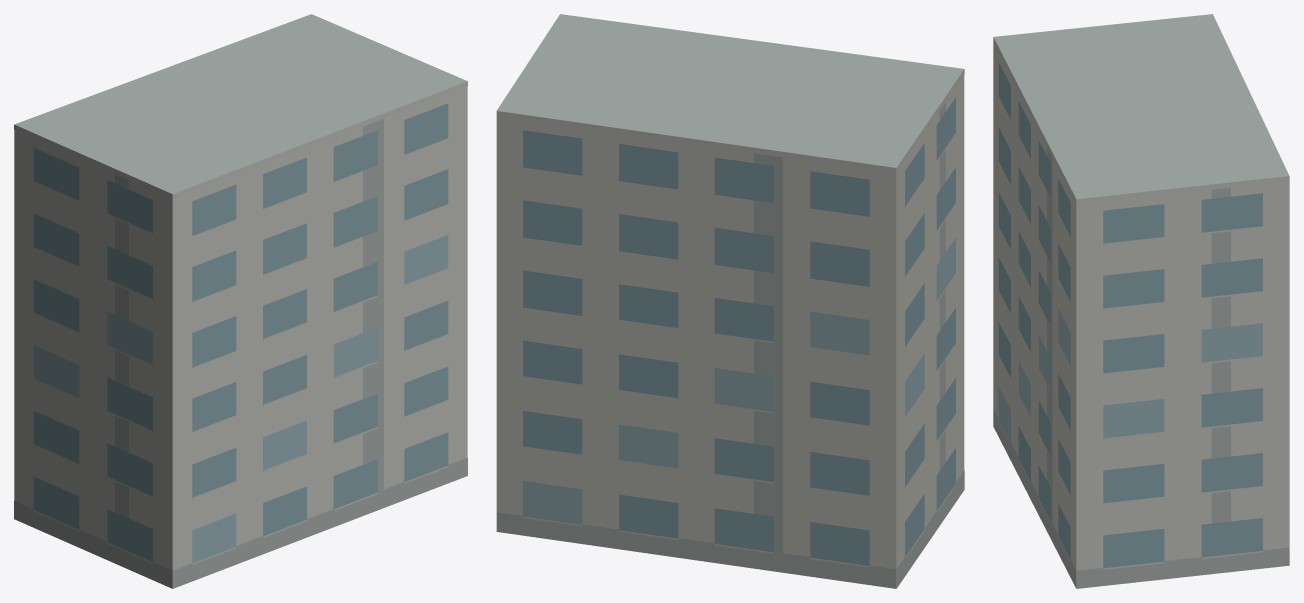
The model's file is survey-upis-32830711.glb.
3 renders of one model, left to right at view 1: azimuth 30°, elevation 25°; view 2: azimuth 150°, elevation 25°; view 3: azimuth 270°, elevation 25°, orthographic. The views are drawn at different scales.
Parts seen in each view (by area): view 1: survey-upis-32830711.tmp; view 2: survey-upis-32830711.tmp; view 3: survey-upis-32830711.tmp.
Boxes of the visible parts, x1=… form: survey-upis-32830711.tmp: x1=14, y1=14, x2=467, y2=588; survey-upis-32830711.tmp: x1=496, y1=14, x2=964, y2=588; survey-upis-32830711.tmp: x1=993, y1=14, x2=1289, y2=588.
Size of the model in its own units: 18.67 by 18.3 by 12.62.
